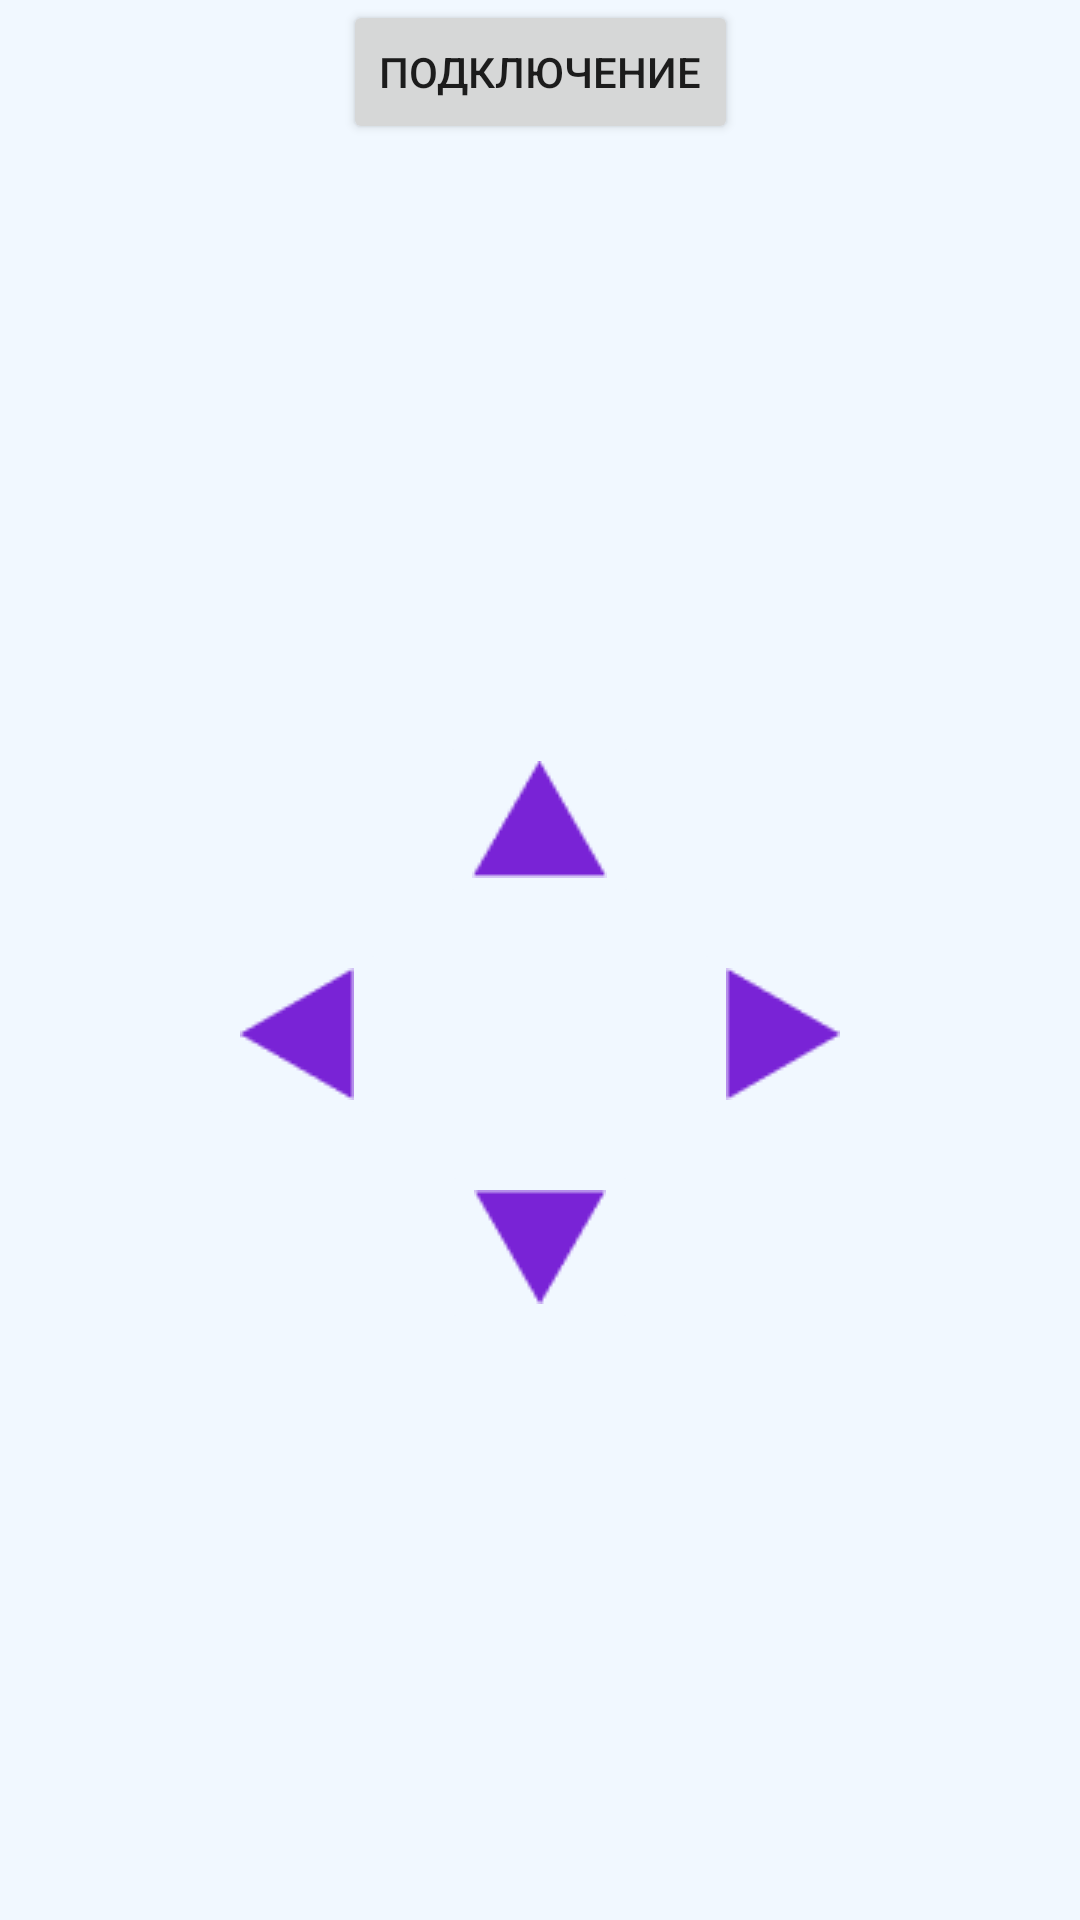

Locate icon controls on the screen. Image size 1080px x 1920px, boxes as [left=x1, top=y1, right=x2, bottom=y2].
down: [left=474, top=1190, right=606, bottom=1304]
left: [left=240, top=968, right=354, bottom=1100]
polygon: [left=472, top=761, right=607, bottom=878]
right: [left=726, top=968, right=840, bottom=1100]
